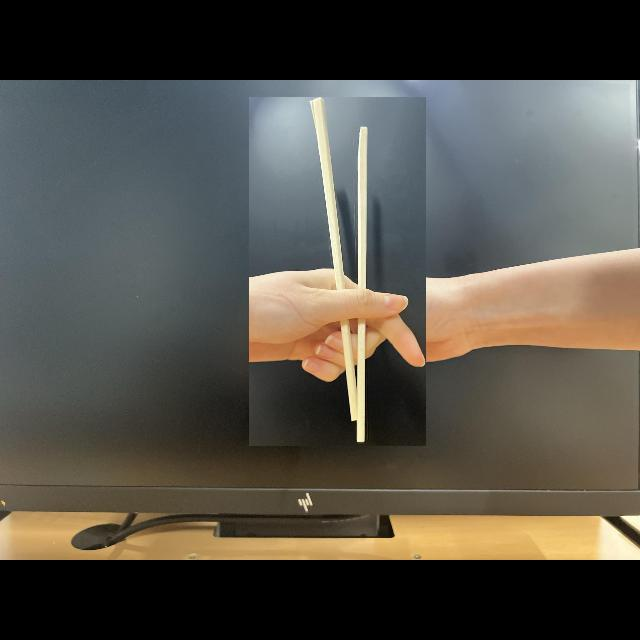stick: (248, 97, 426, 445)
